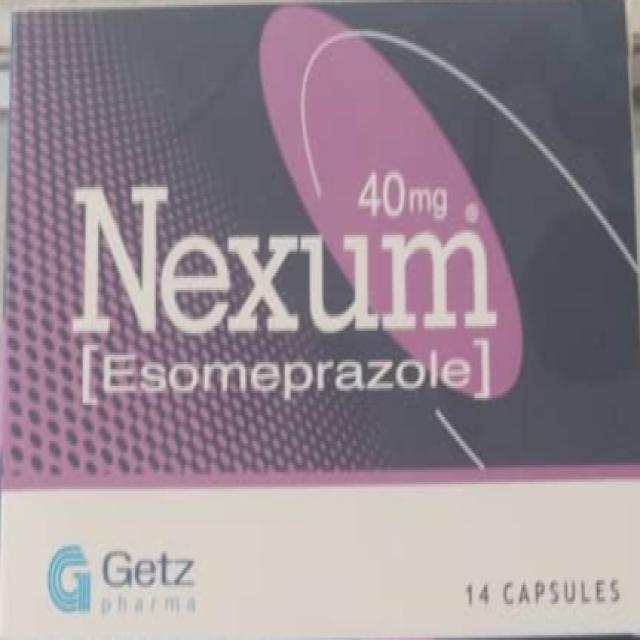drug-name: (68, 188, 502, 333)
